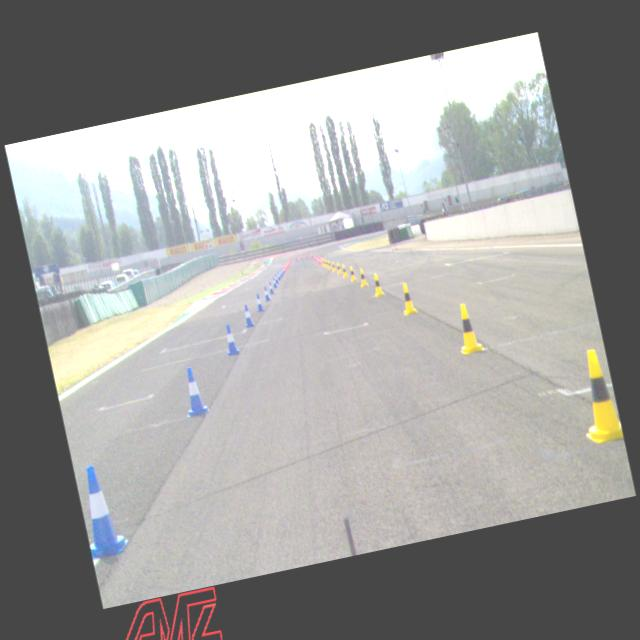blue_cone: (73, 460, 132, 560), (177, 364, 211, 418), (220, 322, 242, 356), (240, 302, 256, 328), (253, 292, 265, 312), (262, 284, 270, 300), (266, 280, 274, 294), (270, 275, 278, 288), (274, 272, 280, 284), (276, 270, 281, 280)
yellow_cone: (568, 347, 624, 448), (451, 300, 486, 356), (397, 282, 418, 316), (370, 271, 384, 297), (356, 266, 368, 288), (347, 264, 357, 282), (339, 264, 348, 278), (334, 261, 342, 274), (330, 260, 337, 272), (326, 259, 332, 270), (324, 258, 330, 268)
